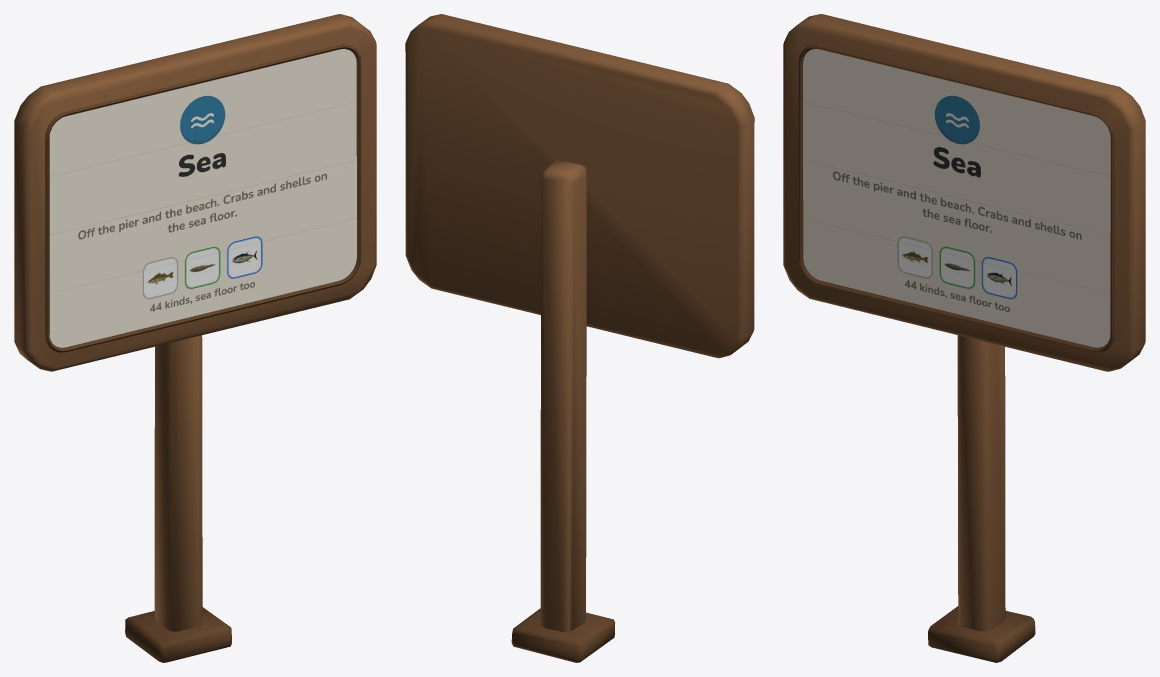
File: water-sign-sea.glb
3 renders of one model, left to right at view 1: azimuth 30°, elevation 25°; view 2: azimuth 150°, elevation 25°; view 3: azimuth 330°, elevation 25°, orthographic. The views are drawn at different scales.
Visible parts, largest first — view 1: water-sign-sea; view 2: water-sign-sea; view 3: water-sign-sea.
Boxes of the visible parts, x1=… form: water-sign-sea: x1=14, y1=14, x2=376, y2=662; water-sign-sea: x1=405, y1=14, x2=754, y2=662; water-sign-sea: x1=783, y1=14, x2=1145, y2=662.
Bounding box in the file's own units: 1.15 × 1.87 × 0.253.
Materials: 2 (1 with a texture image).
